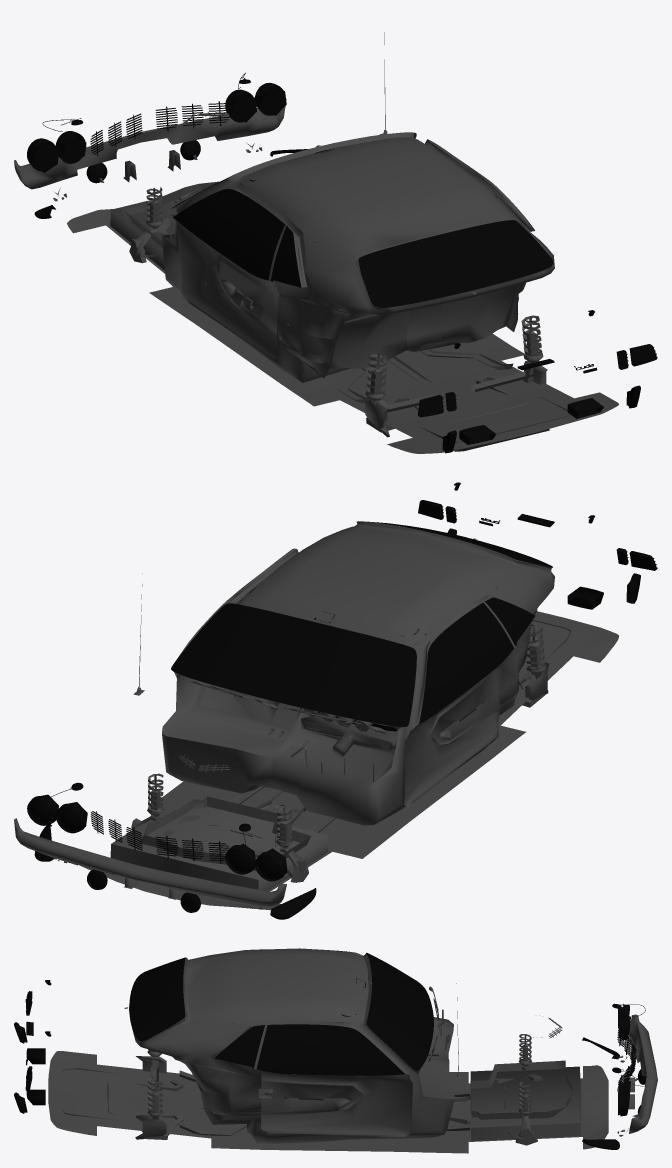
The model's file is cartypebody0model.obj.
3 views of the same model, one above another, from view 1: azimuth 30°, elevation 25°; view 2: azimuth 150°, elevation 25°; view 3: azimuth 270°, elevation 25° (orthographic). The views are drawn at different scales.
Parts seen in each view (by area): view 1: cartypebody0model_Body.003; view 2: cartypebody0model_Body.003; view 3: cartypebody0model_Body.003.
Boxes of the visible parts, left/top/right/bottom form: cartypebody0model_Body.003: left=14, top=32, right=657, bottom=453; cartypebody0model_Body.003: left=14, top=482, right=657, bottom=919; cartypebody0model_Body.003: left=14, top=948, right=657, bottom=1153.
Bounding box in the file's own units: 1.85 × 1.49 × 4.67.
